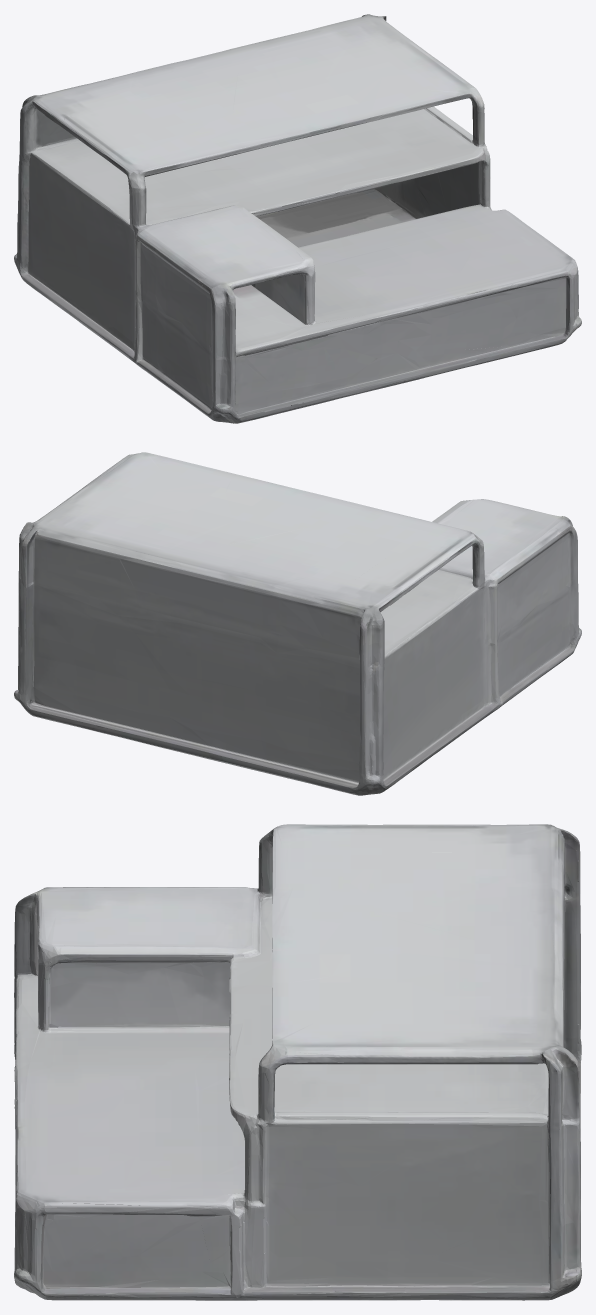
The model's file is shelf_display_stepped_white.glb.
3 renders of one model, top to bottom at view 1: azimuth 30°, elevation 25°; view 2: azimuth 150°, elevation 25°; view 3: azimuth 270°, elevation 25°, orthographic. The views are drawn at different scales.
Parts seen in each view (by area): view 1: geometry_0; view 2: geometry_0; view 3: geometry_0.
Part boxes in pixels (<box>): geometry_0: <box>14,14,581,423</box>; geometry_0: <box>14,452,581,795</box>; geometry_0: <box>14,824,581,1300</box>.
Bounding box in the file's own units: 0.9895 × 0.4767 × 0.9851.
1 material, 1 textured.
